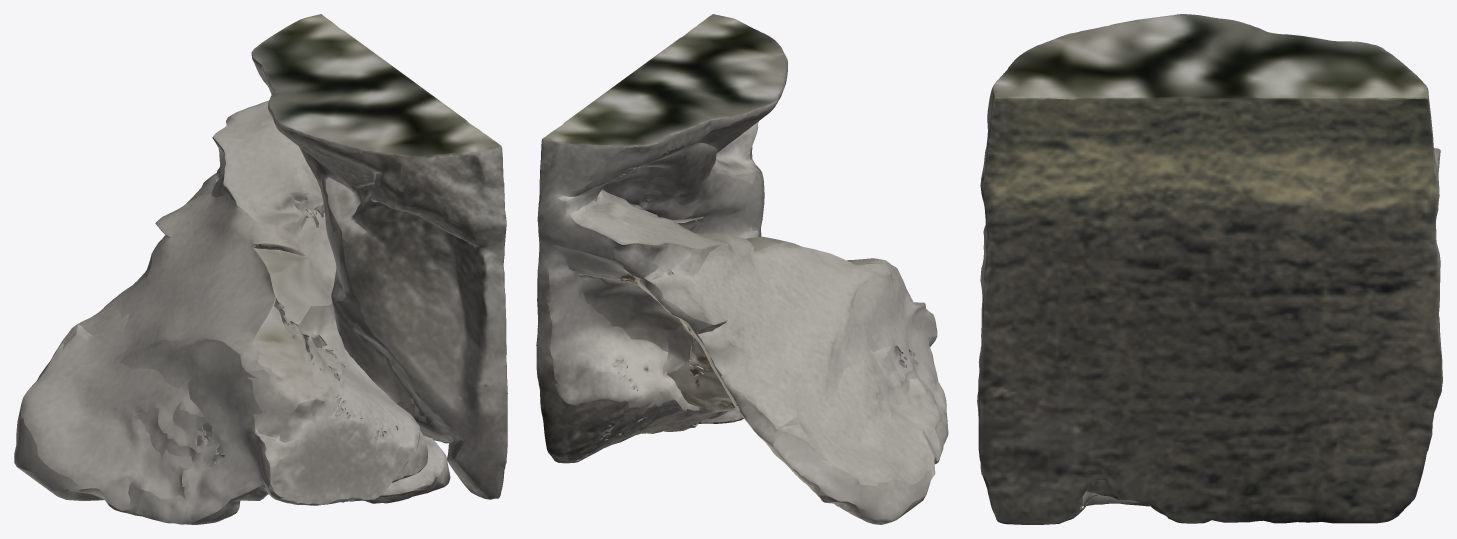
3 renders of one model, left to right at view 1: azimuth 30°, elevation 25°; view 2: azimuth 150°, elevation 25°; view 3: azimuth 270°, elevation 25°, orthographic. The views are drawn at different scales.
Visible parts, largest first — view 1: world; view 2: world; view 3: world.
Boxes of the visible parts, x1,y1,x2,y2 form: world: (14,14,507,524); world: (536,14,948,524); world: (977,14,1442,524).
Bounding box in the file's own units: 0.35 × 0.3499 × 0.345.
1 material, 1 textured.
